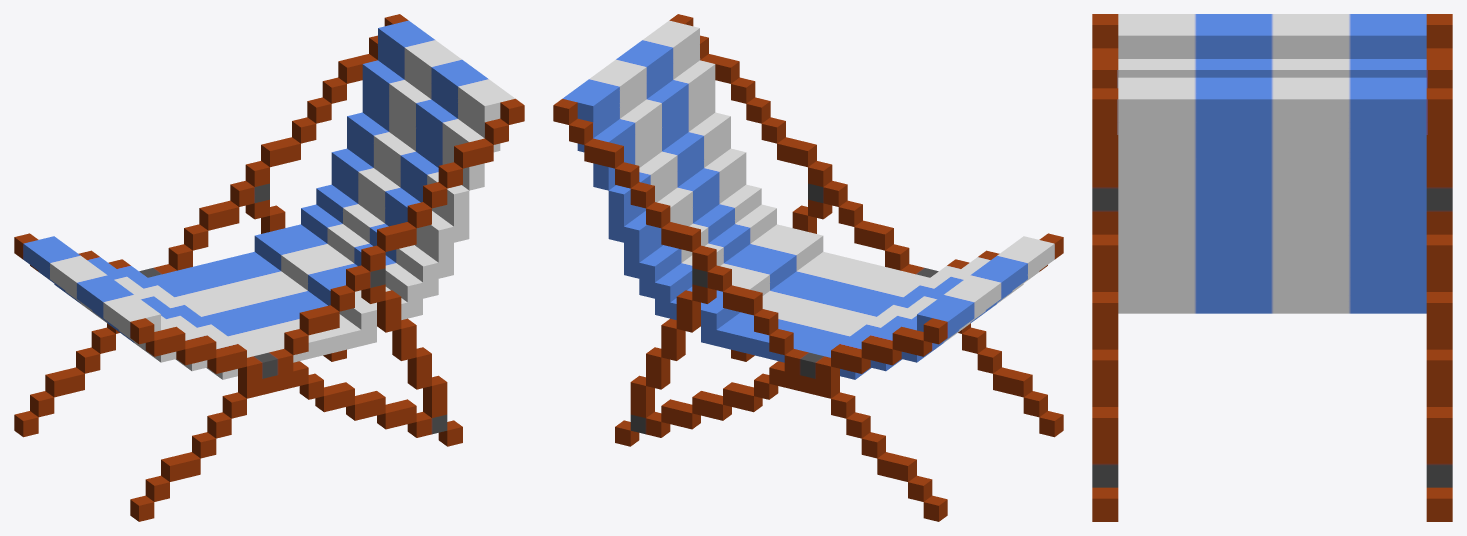
Rendered from beach_chair_6.fbx.
The picture shows the model from 3 angles, left to right: view 1: azimuth 30°, elevation 25°; view 2: azimuth 150°, elevation 25°; view 3: azimuth 270°, elevation 25°; orthographic projection. The views are drawn at different scales.
Visible parts, largest first — view 1: beach_chair_6; view 2: beach_chair_6; view 3: beach_chair_6.
Part boxes in pixels (<box>): beach_chair_6: <box>14,14,524,521</box>; beach_chair_6: <box>553,14,1063,521</box>; beach_chair_6: <box>1092,14,1452,521</box>.
Bounding box in the file's own units: 25 × 20 × 14.
